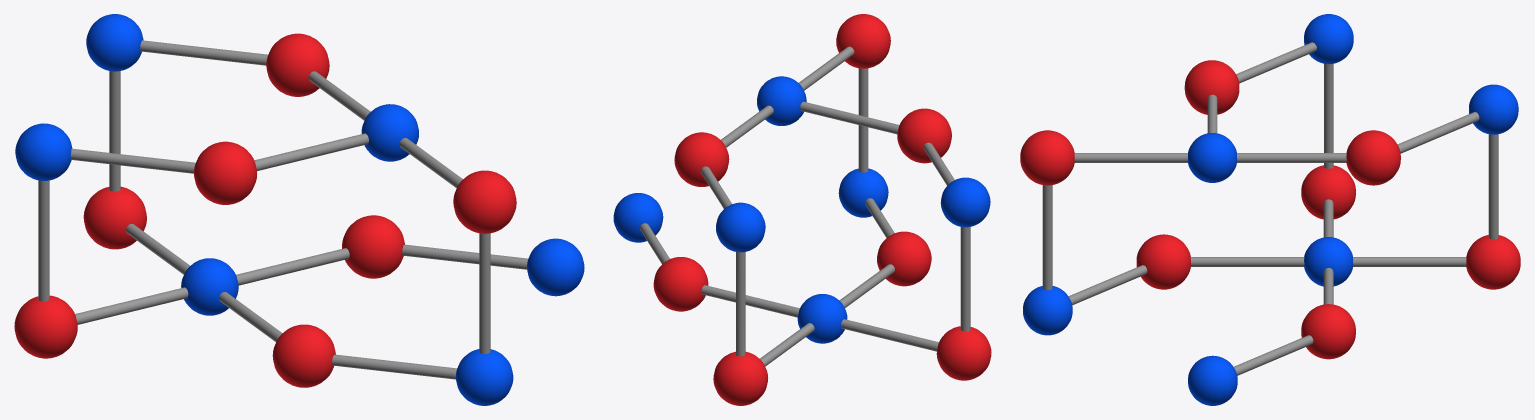
File: CuO.fbx
3 renders of one model, left to right at view 1: azimuth 30°, elevation 25°; view 2: azimuth 150°, elevation 25°; view 3: azimuth 270°, elevation 25°, orthographic. The views are drawn at different scales.
Visible parts, largest first — view 1: Сферы_Node (×13), Цилиндр_Node (×14); view 2: Сферы_Node (×13), Цилиндр_Node (×14); view 3: Сферы_Node (×13), Цилиндр_Node (×11).
Part boxes in pixels (x1=…): Сферы_Node (×13): x1=14, y1=14, x2=584, y2=405; Цилиндр_Node (×14): x1=38, y1=40, x2=527, y2=379; Сферы_Node (×13): x1=613, y1=14, x2=991, y2=405; Цилиндр_Node (×14): x1=640, y1=46, x2=970, y2=366; Сферы_Node (×13): x1=1020, y1=14, x2=1520, y2=405; Цилиндр_Node (×11): x1=1042, y1=42, x2=1498, y2=375.
Bounding box in the file's own units: 5.96 × 2.67 × 5.98.
Materials: 7 (3 with a texture image).
